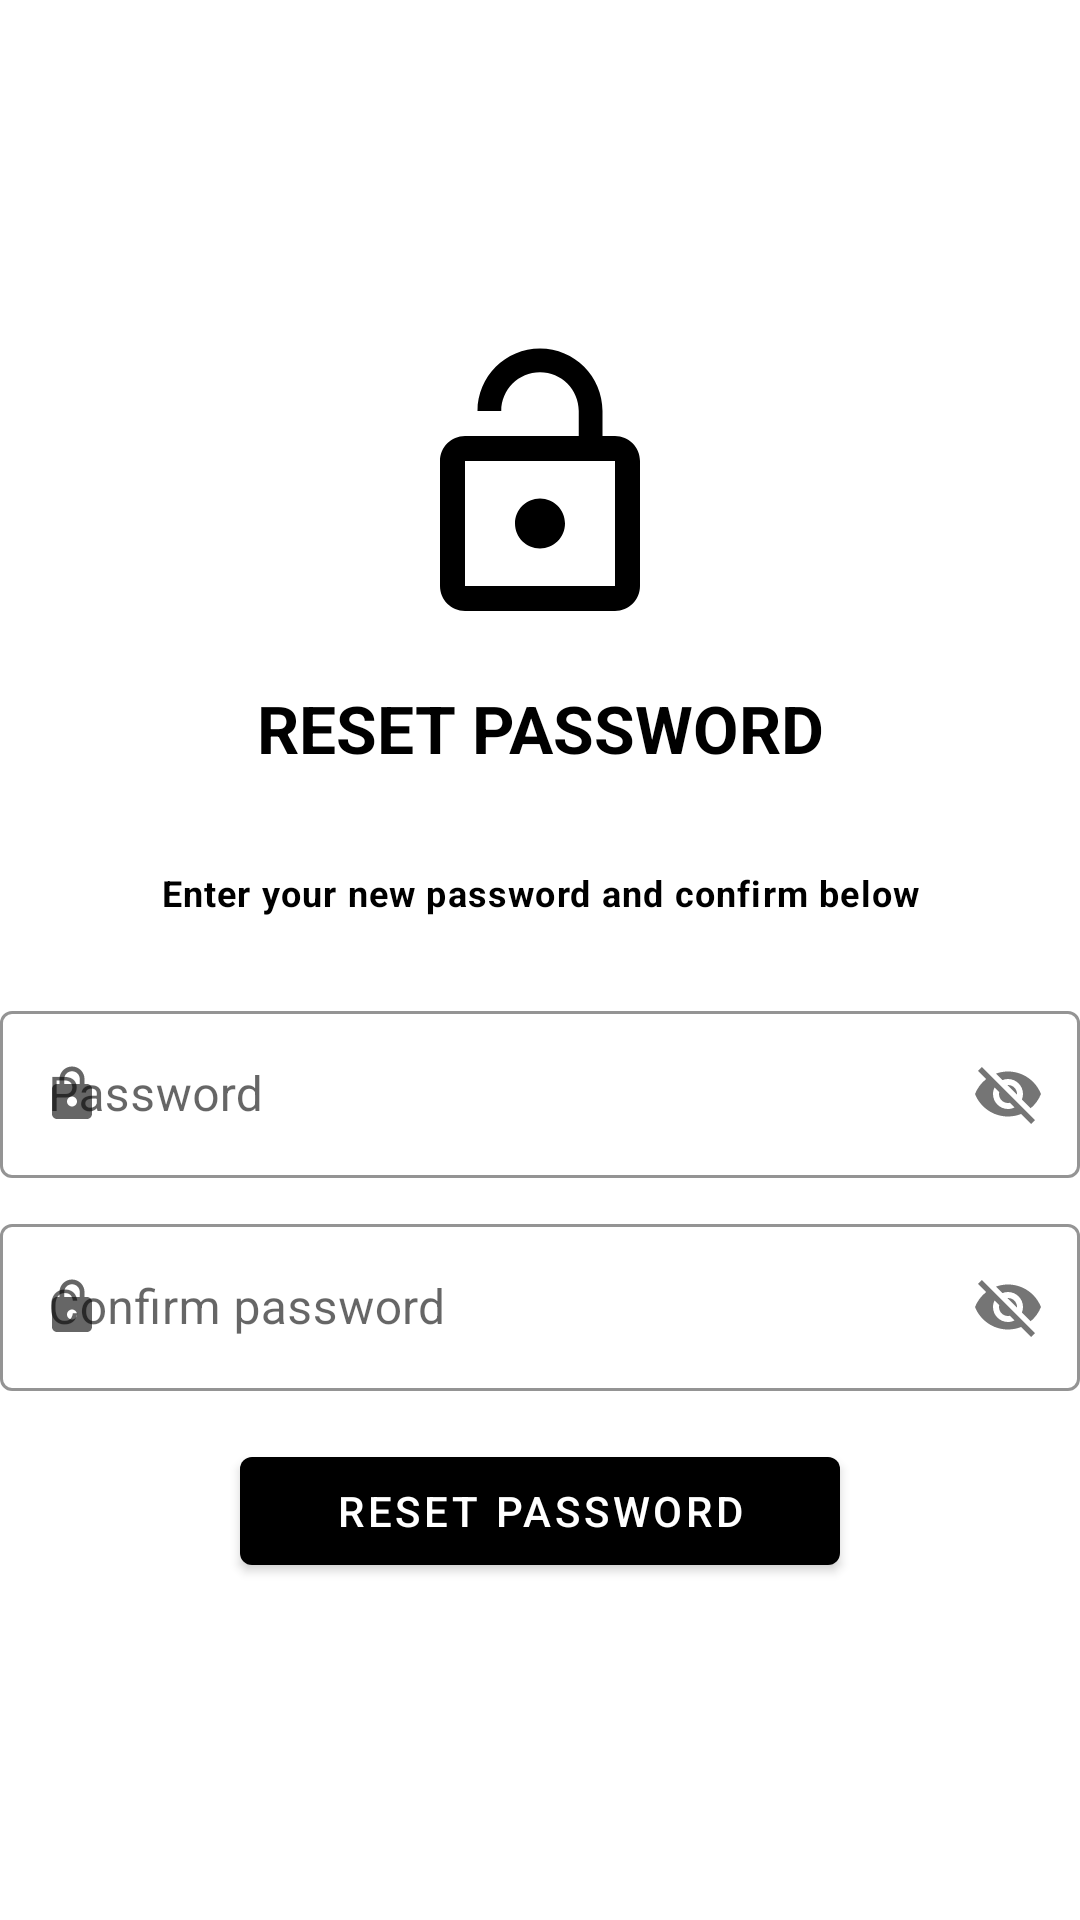

Named icons in this screenshot (1080px x 1920px) and their centers, (x=x, y=y):
lock open: (x=540, y=479)
